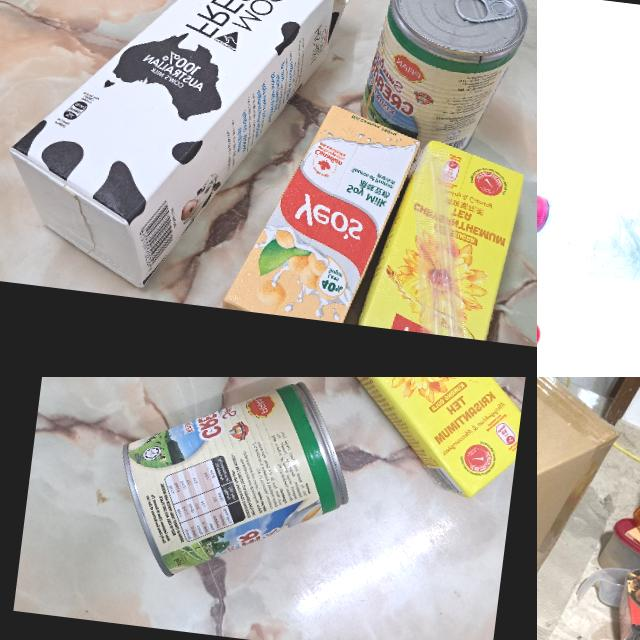aba de lata: (451, 0, 516, 28)
caixinha: (0, 0, 357, 311), (222, 94, 423, 329), (349, 132, 527, 342), (295, 377, 537, 507)
garrafa plástica: (537, 148, 640, 294)
lata: (108, 377, 361, 597), (354, 0, 532, 156)
papelão: (537, 377, 631, 640)
tampa plástica: (537, 190, 552, 232)
